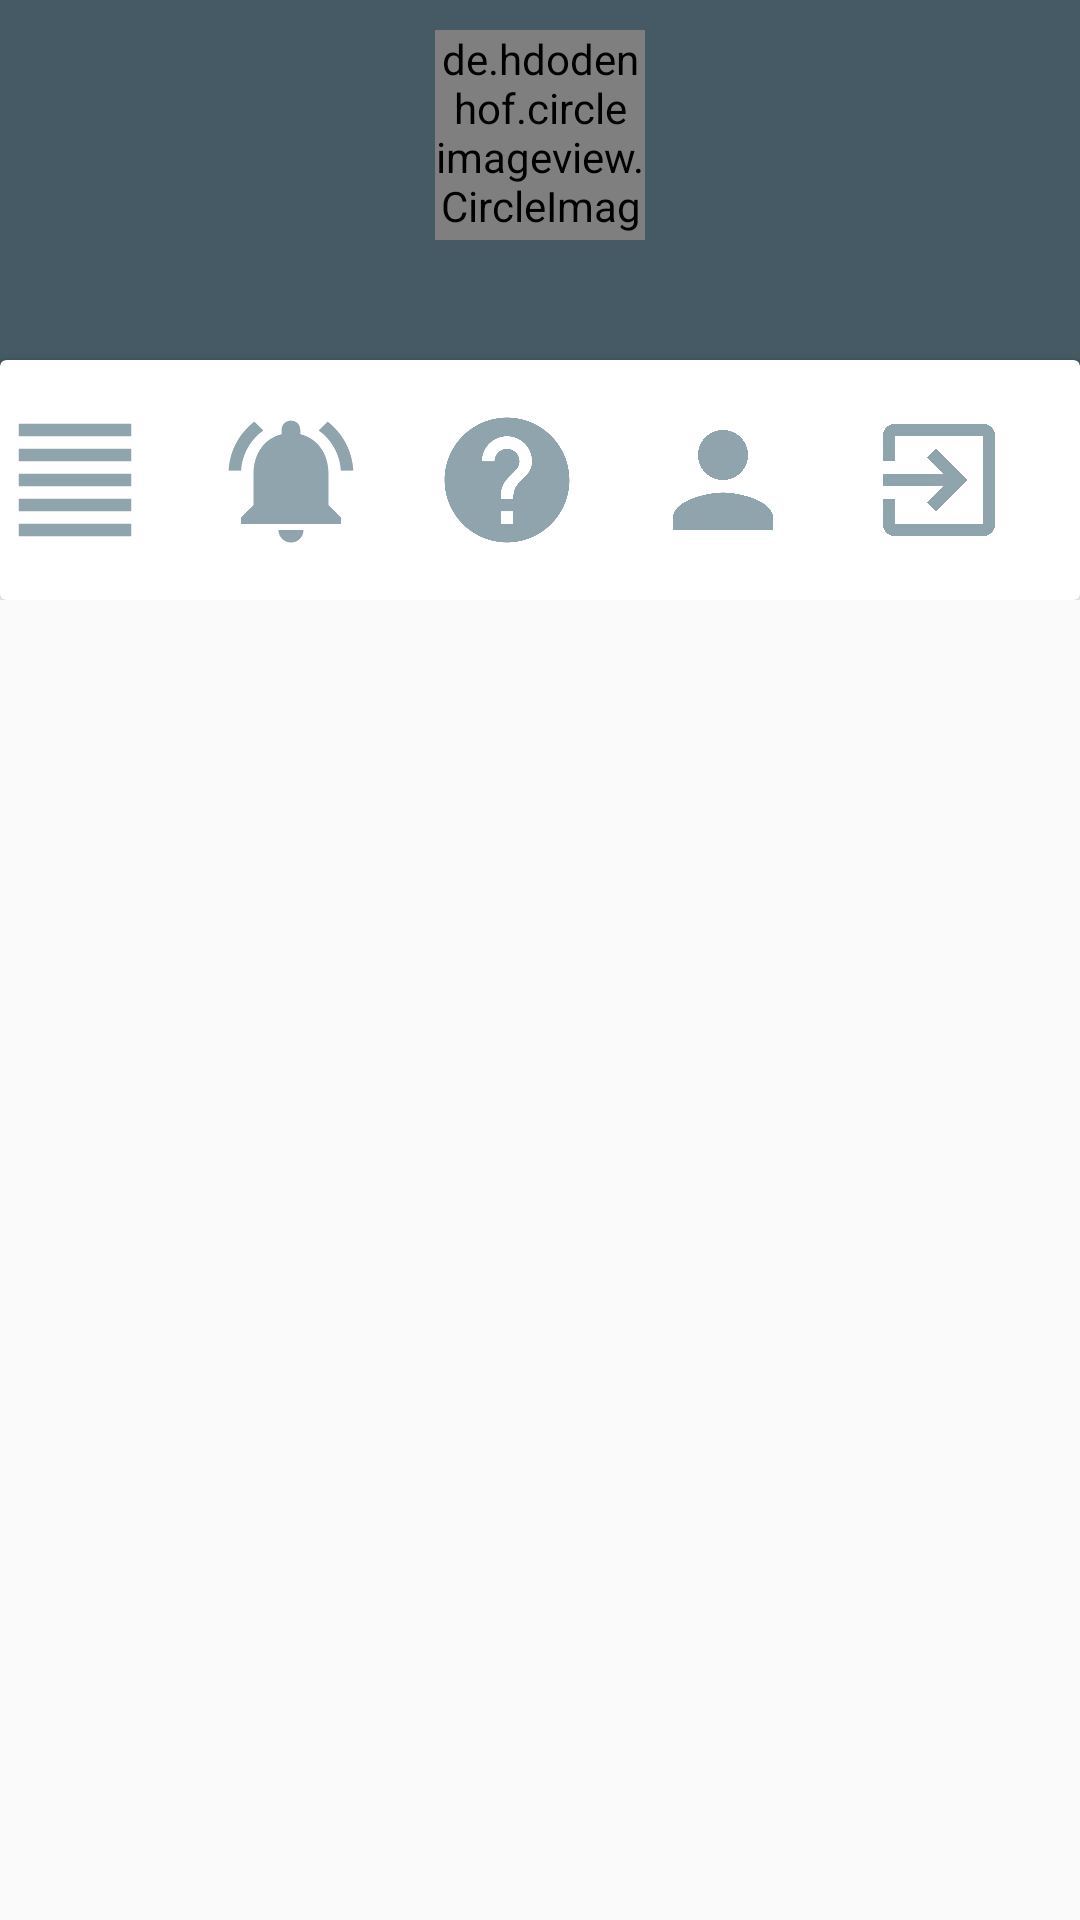

Icons on this 1080px x 1920px Android screen, each with the point to tap as [x,y]:
exit: [939,480]
help: [507,480]
notifications: [290,481]
person: [723,480]
